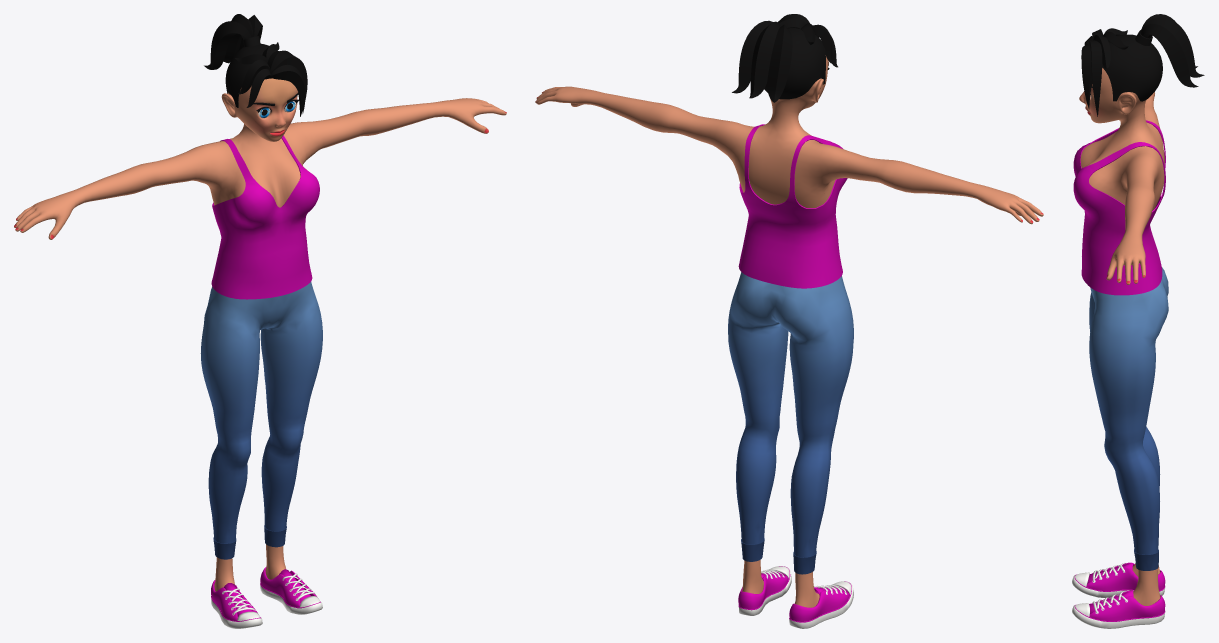
The model's file is uploads_files_3931016_Character_1.fbx.
3 views of the same model, side by side, from view 1: azimuth 30°, elevation 25°; view 2: azimuth 150°, elevation 25°; view 3: azimuth 270°, elevation 25° (orthographic). The views are drawn at different scales.
Parts seen in each view (by area): view 1: D_2, Body, D_1, Hair, Shoes; view 2: D_2, Body, D_1, Hair, Shoes; view 3: D_2, Body, Hair, D_1, Shoes.
Boxes of the visible parts, box(x1,y1,x2,y2) form: D_2: box(200, 281, 322, 559); Body: box(14, 78, 506, 591); D_1: box(211, 135, 319, 299); Hair: box(204, 14, 307, 116); Shoes: box(211, 567, 322, 628); D_2: box(728, 272, 853, 574); Body: box(535, 55, 1043, 607); D_1: box(738, 124, 847, 288); Hair: box(732, 14, 837, 102); Shoes: box(738, 566, 853, 628); D_2: box(1089, 267, 1168, 570); Body: box(1079, 68, 1164, 605); Hair: box(1081, 14, 1204, 116); D_1: box(1073, 120, 1165, 295); Shoes: box(1072, 562, 1165, 628).
Bounding box in the file's own units: 655 × 746 × 152.
